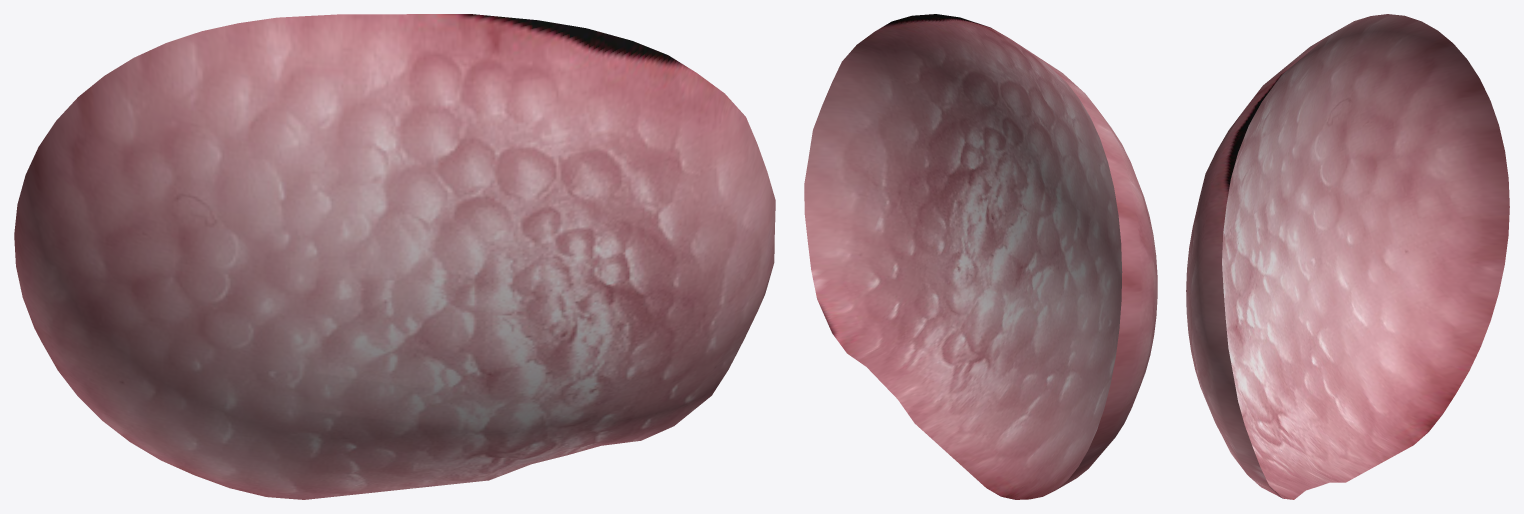
Rendered from SighSkin_pivot.obj.
The picture shows the model from 3 angles, left to right: view 1: azimuth 30°, elevation 25°; view 2: azimuth 150°, elevation 25°; view 3: azimuth 270°, elevation 25°; orthographic projection. The views are drawn at different scales.
Parts seen in each view (by area): view 1: SighSkin_pivot; view 2: SighSkin_pivot; view 3: SighSkin_pivot.
Boxes of the visible parts, x1,y1,x2,y2 form: SighSkin_pivot: (14,14,775,499); SighSkin_pivot: (804,14,1157,499); SighSkin_pivot: (1186,14,1509,499).
Bounding box in the file's own units: 36.47 × 30.87 × 22.51.
